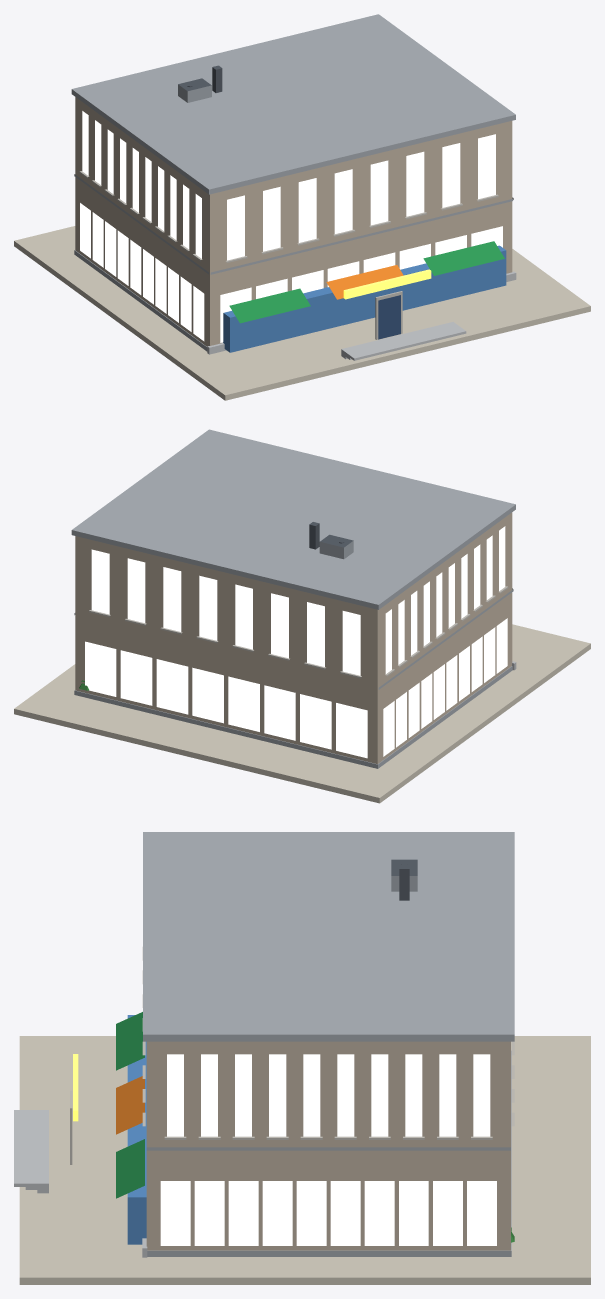
3 views of the same model, one above another, from view 1: azimuth 30°, elevation 25°; view 2: azimuth 150°, elevation 25°; view 3: azimuth 270°, elevation 25° (orthographic). The views are drawn at different scales.
Visible parts, largest first — view 1: b19_x2; view 2: b19_x2; view 3: b19_x2.
Part boxes in pixels (<box>): b19_x2: <box>14,14,590,400</box>; b19_x2: <box>14,429,590,803</box>; b19_x2: <box>14,832,590,1284</box>.
Size of the model in its own units: 1.96 by 1 by 1.98.
